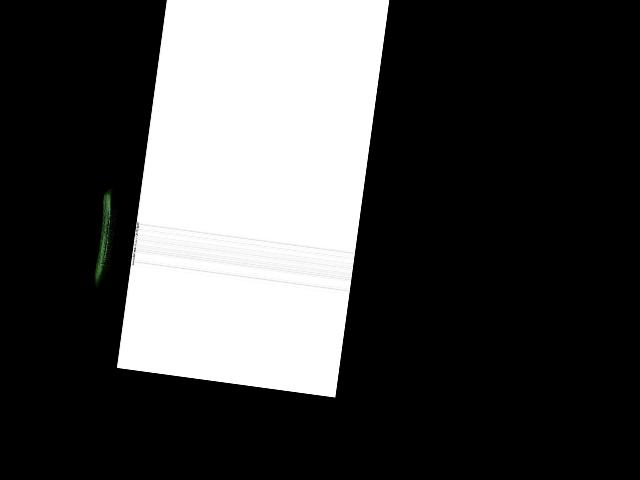cucumber: (91, 187, 120, 291)
